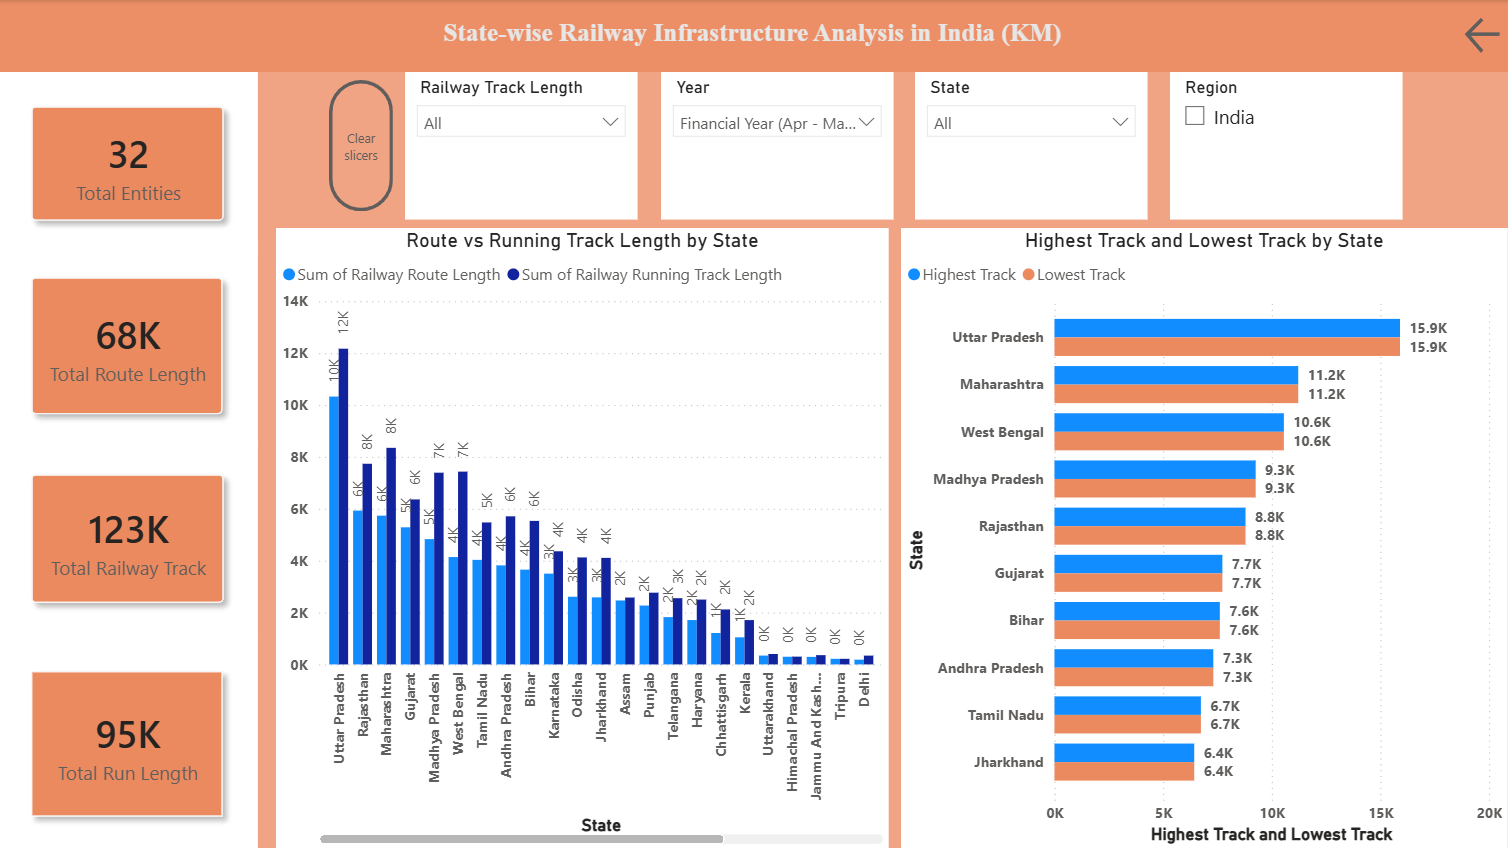

The page's visual inventory and layout, read from the dashboard file:
{"tool":"powerbi","page":{"name":"Page 3","canvas":[1280,720],"ordinal":2},"visuals":[{"type":"textbox","box":[0,0,1280,61],"z":0},{"type":"clusteredBarChart","fields":{"Category":["Statewise Railway Track.State"],"Y":["Statewise Railway Track.Highest Track","Statewise Railway Track.Lowest Track"]},"box":[765.9,193.2,514.1,527],"z":1000},{"type":"clusteredColumnChart","title":"Route vs Running Track Length by State","fields":{"Category":["Statewise Railway Track.State"],"Y":["Sum(Statewise Railway Track.Railway Route Length)","Sum(Statewise Railway Track.Railway Running Track Length)"]},"box":[236.3,193.2,519.2,527],"z":2000},{"type":"actionButton","box":[1239.4,10.1,39.5,39.5],"z":3000},{"type":"cardVisual","fields":{"Data":["Count(Statewise Railway Track.State)"]},"box":[0,60.9,221,155.2],"z":4000},{"type":"cardVisual","fields":{"Data":["Statewise Railway Track.Total Railway Track"]},"box":[0,372.7,221.1,167.7],"z":5000},{"type":"cardVisual","fields":{"Data":["Statewise Railway Track.Total Route Length"]},"box":[0,206,220.7,174.1],"z":6000},{"type":"cardVisual","fields":{"Data":["Statewise Railway Track.Total Running Track Length"]},"box":[0,539.5,220.7,181.5],"z":7000},{"type":"slicer","fields":{"Values":["Statewise Railway Track.State"]},"box":[778,61.2,196.7,125.1],"z":8000},{"type":"slicer","fields":{"Values":["Statewise Railway Track.Year"]},"box":[562.4,61.2,196.7,125.1],"z":9000},{"type":"slicer","fields":{"Values":["Statewise Railway Track.Country"]},"box":[993.6,61.2,196.7,125.1],"z":10000},{"type":"slicer","fields":{"Values":["Statewise Railway Track.Railway Track Length"]},"box":[345.9,61.2,196.7,125.1],"z":11000},{"type":"actionButton","box":[281.2,68.1,54.3,111.3],"z":12000}]}

Visuals, with their boxes in screenshot pixels (x1, y1, x2, y2), scaled from the page's 1280x720 canvas onto the 1508x848 screenshot:
textbox: 0 0 1507 72
clusteredBarChart - Statewise Railway Track.State x Statewise Railway Track.Highest Track: 902 228 1507 847
"Route vs Running Track Length by State" clusteredColumnChart: 278 228 890 847
actionButton: 1460 12 1507 58
cardVisual - Count(Statewise Railway Track.State): 0 72 260 255
cardVisual - Statewise Railway Track.Total Railway Track: 0 439 260 636
cardVisual - Statewise Railway Track.Total Route Length: 0 243 260 448
cardVisual - Statewise Railway Track.Total Running Track Length: 0 635 260 847
slicer - Statewise Railway Track.State: 917 72 1148 219
slicer - Statewise Railway Track.Year: 663 72 894 219
slicer - Statewise Railway Track.Country: 1171 72 1402 219
slicer - Statewise Railway Track.Railway Track Length: 408 72 639 219
actionButton: 331 80 395 211
